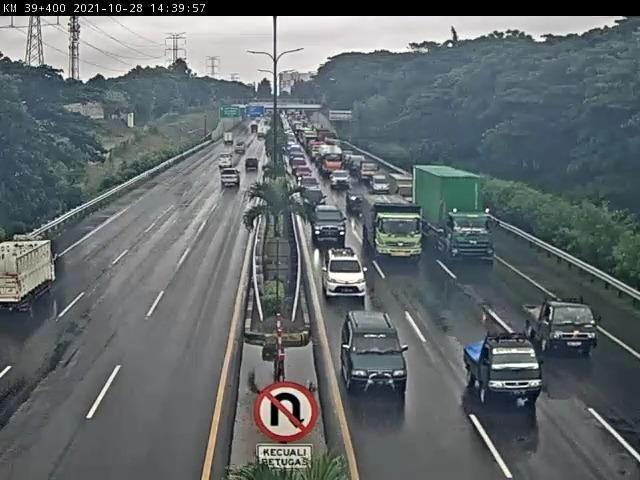car: (464, 332, 544, 406), (340, 313, 407, 393), (524, 296, 600, 355), (324, 250, 371, 301), (310, 207, 348, 244), (303, 185, 327, 211), (345, 184, 367, 207), (367, 173, 392, 193), (356, 162, 378, 181), (221, 169, 242, 187), (330, 168, 349, 187), (217, 151, 237, 169), (246, 157, 261, 171)
truck: (415, 166, 492, 262), (363, 189, 424, 258), (389, 174, 417, 202)
